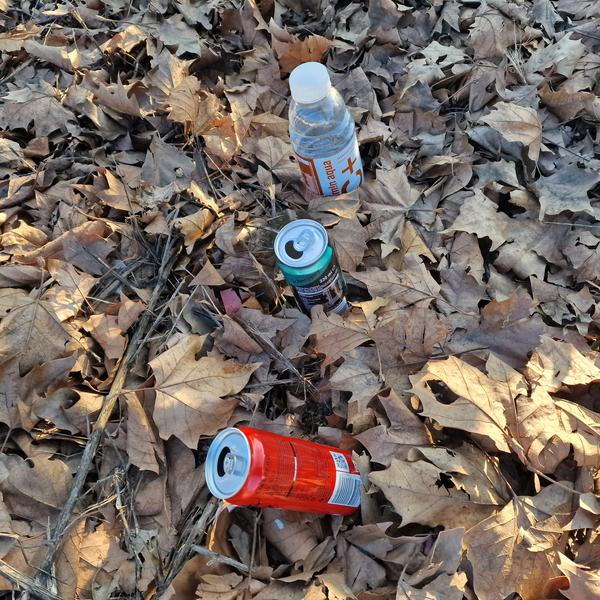can: (197, 420, 371, 528), (265, 212, 357, 331)
plastic_bottle: (277, 54, 370, 206)
